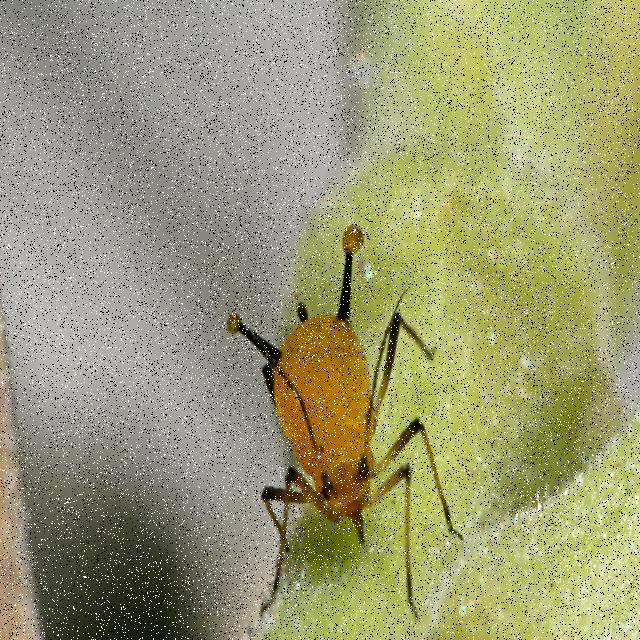Aphids: (207, 173, 491, 627)
